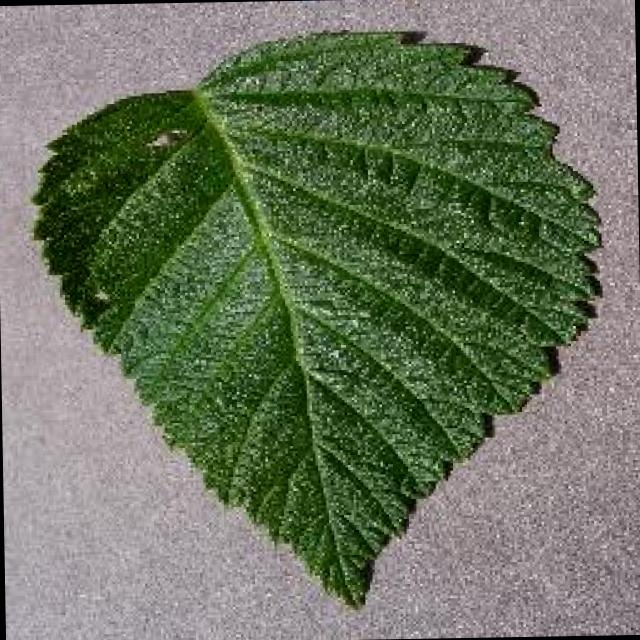healthy: (40, 34, 596, 607)
